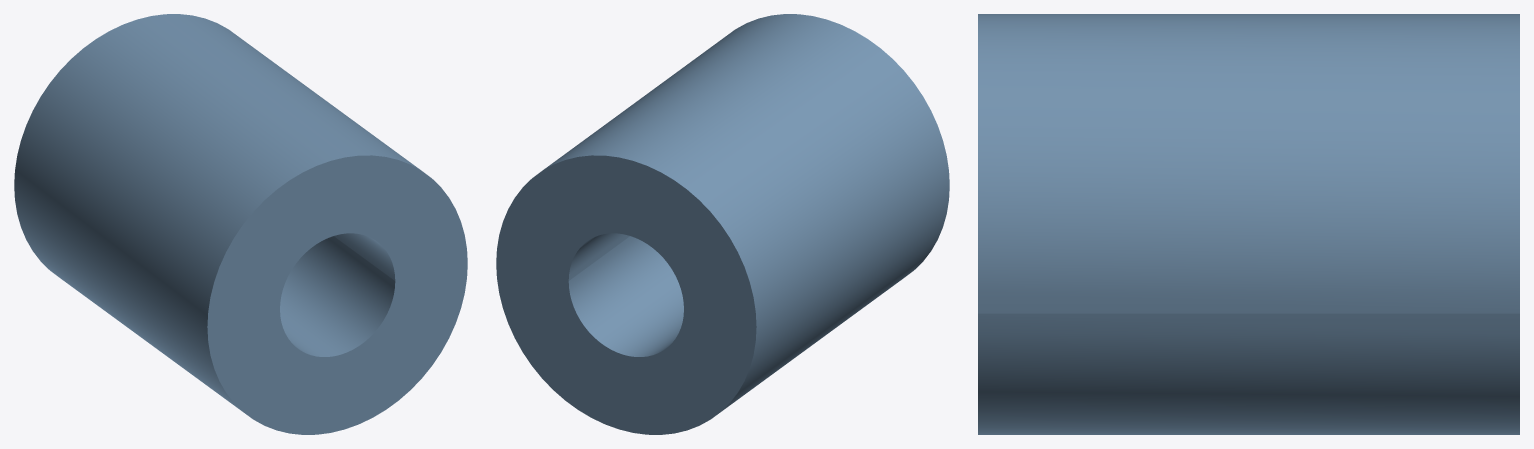
Rendered from spacer.glb.
3 renders of one model, left to right at view 1: azimuth 30°, elevation 25°; view 2: azimuth 150°, elevation 25°; view 3: azimuth 270°, elevation 25°, orthographic. The views are drawn at different scales.
Parts seen in each view (by area): view 1: spacer-00; view 2: spacer-00; view 3: spacer-00.
Part boxes in pixels (x1=…): spacer-00: x1=14, y1=14, x2=467, y2=434; spacer-00: x1=496, y1=14, x2=949, y2=434; spacer-00: x1=978, y1=14, x2=1519, y2=434.
Size of the model in its own units: 14 by 13.98 by 18.
